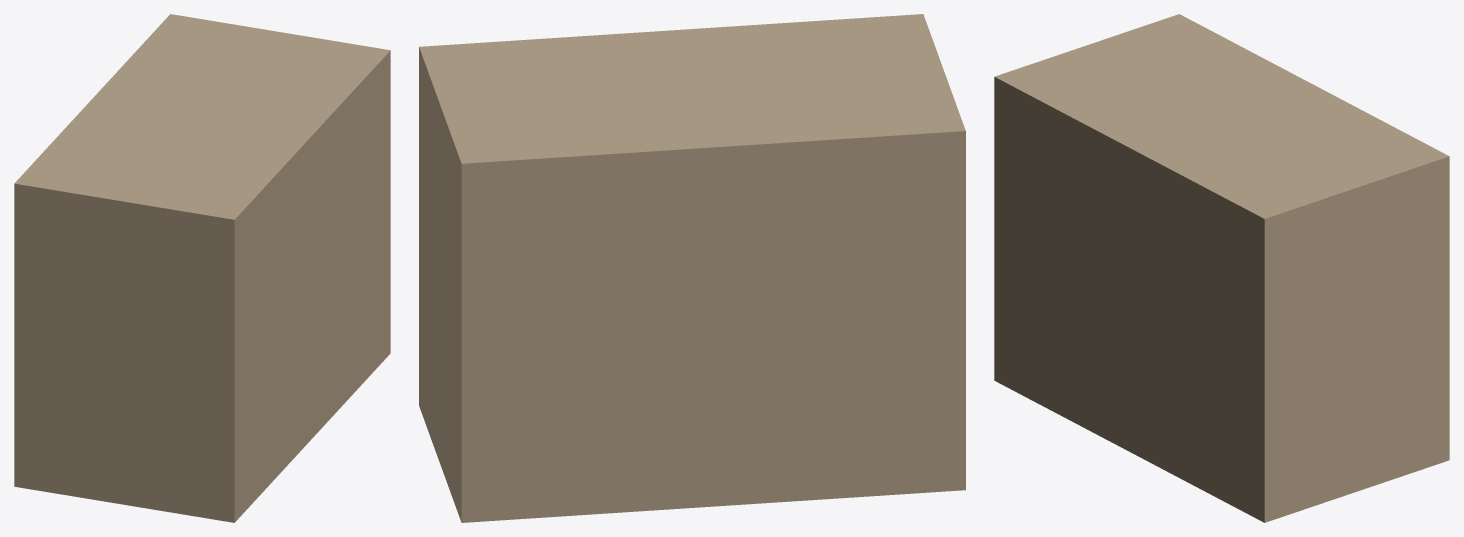
The model's file is bld_158045398.dae.
3 views of the same model, side by side, from view 1: azimuth 30°, elevation 25°; view 2: azimuth 150°, elevation 25°; view 3: azimuth 270°, elevation 25° (orthographic). The views are drawn at different scales.
Visible parts, largest first — view 1: bld_158045398; view 2: bld_158045398; view 3: bld_158045398.
Part boxes in pixels (<box>): bld_158045398: <box>14,14,390,522</box>; bld_158045398: <box>419,14,965,522</box>; bld_158045398: <box>994,14,1449,522</box>.
Bounding box in the file's own units: 11.57 × 10.86 × 8.
